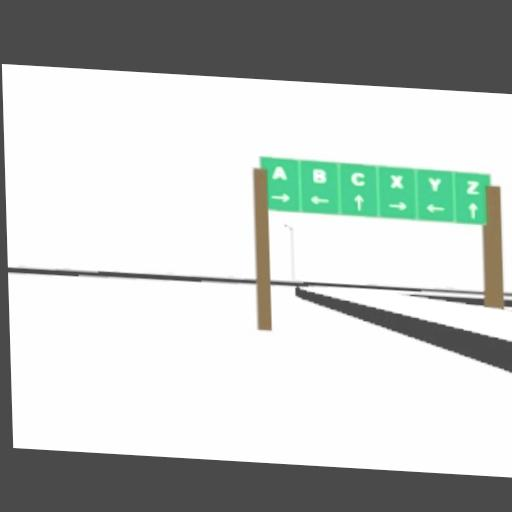A: (270, 165, 287, 179)
B: (311, 168, 326, 184)
C: (349, 170, 366, 186)
Left: (424, 202, 445, 213), (309, 195, 330, 204)
Right: (269, 192, 290, 203), (386, 200, 407, 211)
Straight: (468, 201, 479, 218), (353, 194, 364, 210)
X: (388, 174, 403, 188)
Y: (426, 175, 441, 191)
Z: (466, 180, 479, 194)
